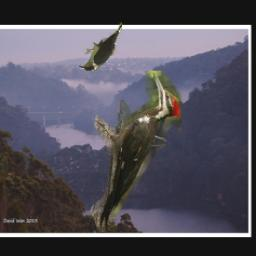Cuckoo: (77, 22, 122, 72)
Woodpecker: (91, 72, 181, 233)
